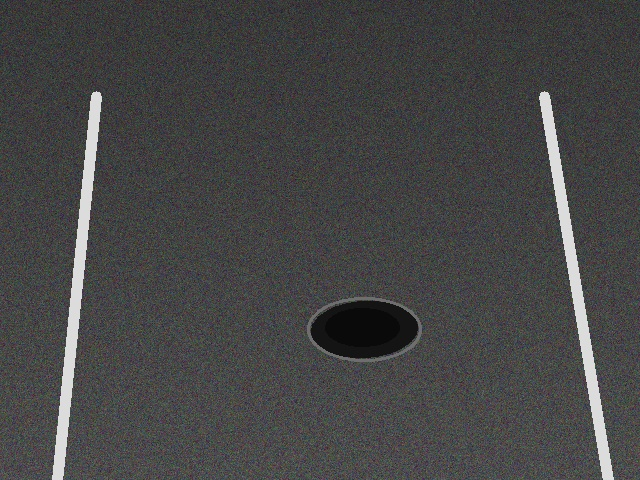D40: (306, 296, 422, 362)
